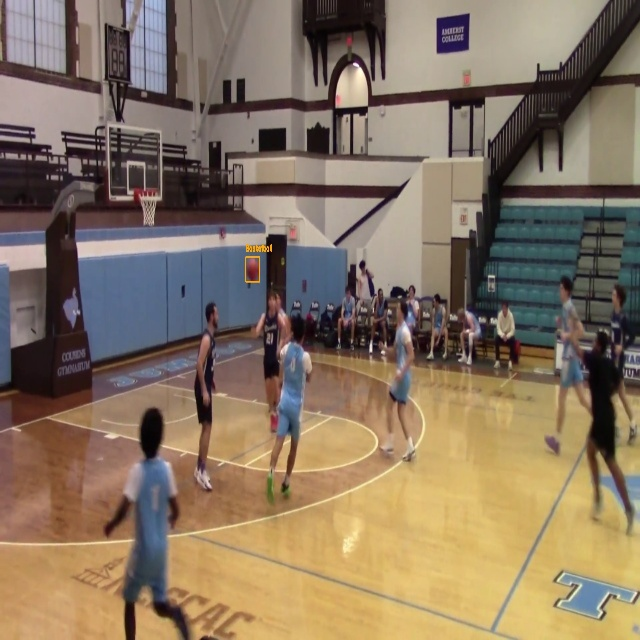Basketball: (246, 257, 259, 282)
